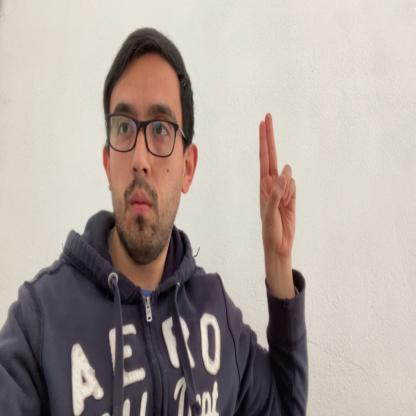U: (259, 111, 296, 262)
